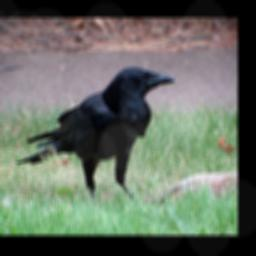Crow: (16, 66, 178, 203)
